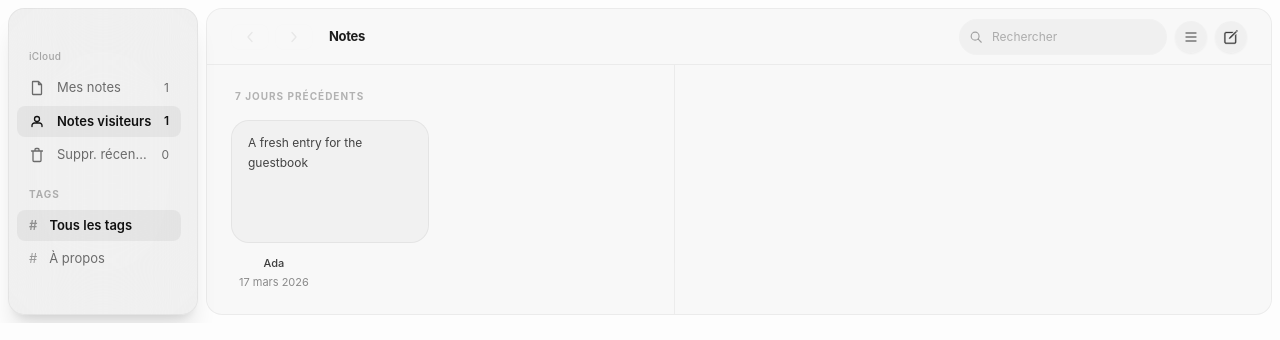
it: NotesApp › uses translated owner note content for the active locale while leaving visitor notes unchanged
Expected: the text "A fresh entry for the guestbook" is shown, [248,135,362,170]
Expected: the button with aria-label "Filter by tag À propos" is shown, [17,243,181,274]
Click the button "Mes notes 1" at (99, 88), box [17,72,181,104]
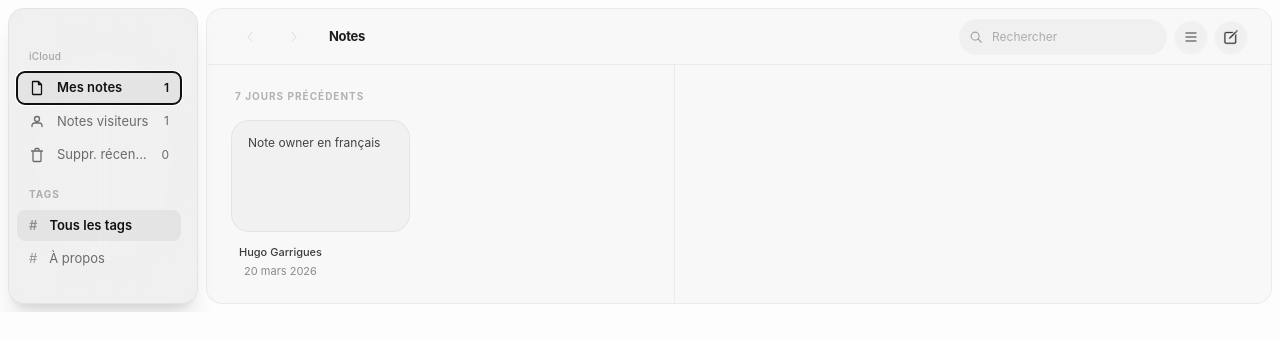
Click the button with aria-label "Open note À propos" at (330, 200), box [231,120,429,279]
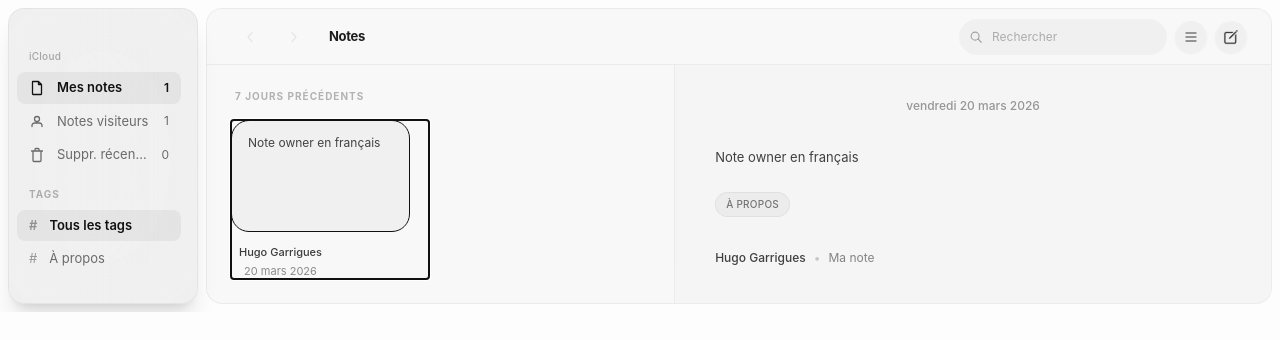
Expected: the text "Note owner en français" below "7 jours précédents" is shown, [248,135,380,150]
Expected: the 2nd text "Note owner en français" is shown, [715,149,859,165]
Expected: the 1st text "À propos" is shown, [715,192,790,217]
